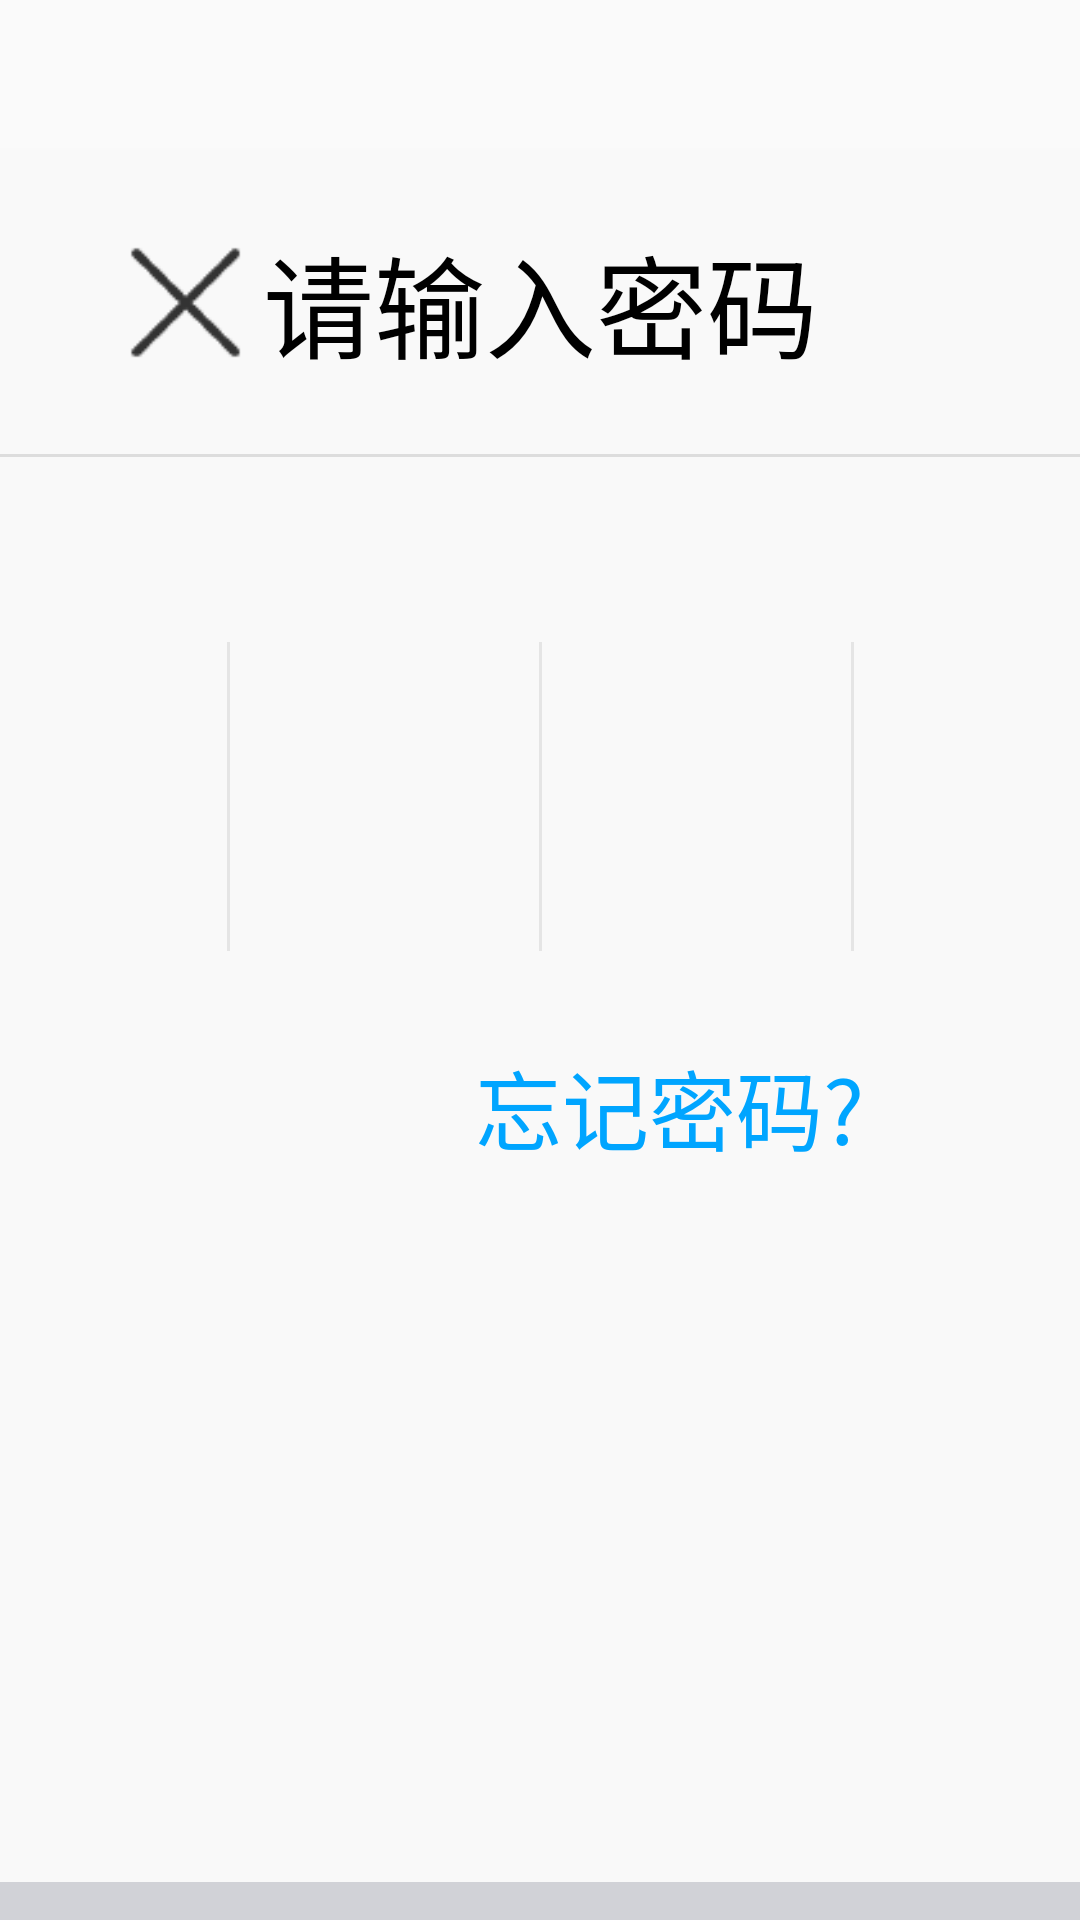

Screen size 1080 x 1920. Icon name, then its box in pixels as box(x1, y1, x2, y2):
close: box(131, 248, 240, 357)
